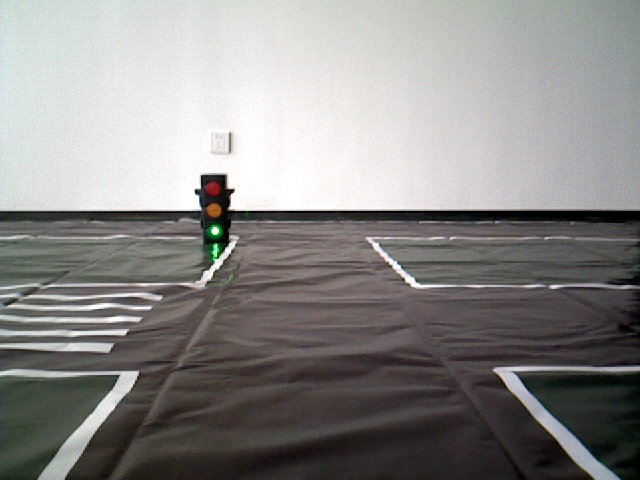green: (201, 175, 226, 236)
